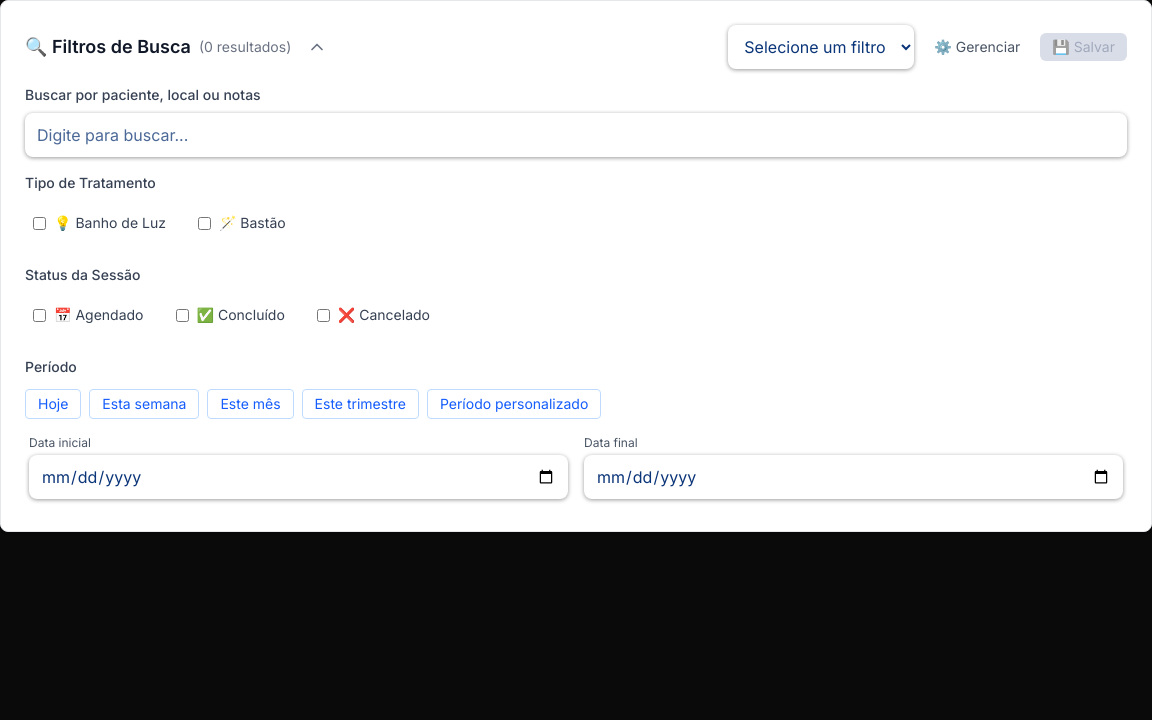
Scenario: FilterBar Component › Manage Presets › should open manage modal when manage button is clicked
The image size is (1152, 720).
Click the button "⚙️ Gerenciar". click: [977, 47]
box: [922,33,1032,61]
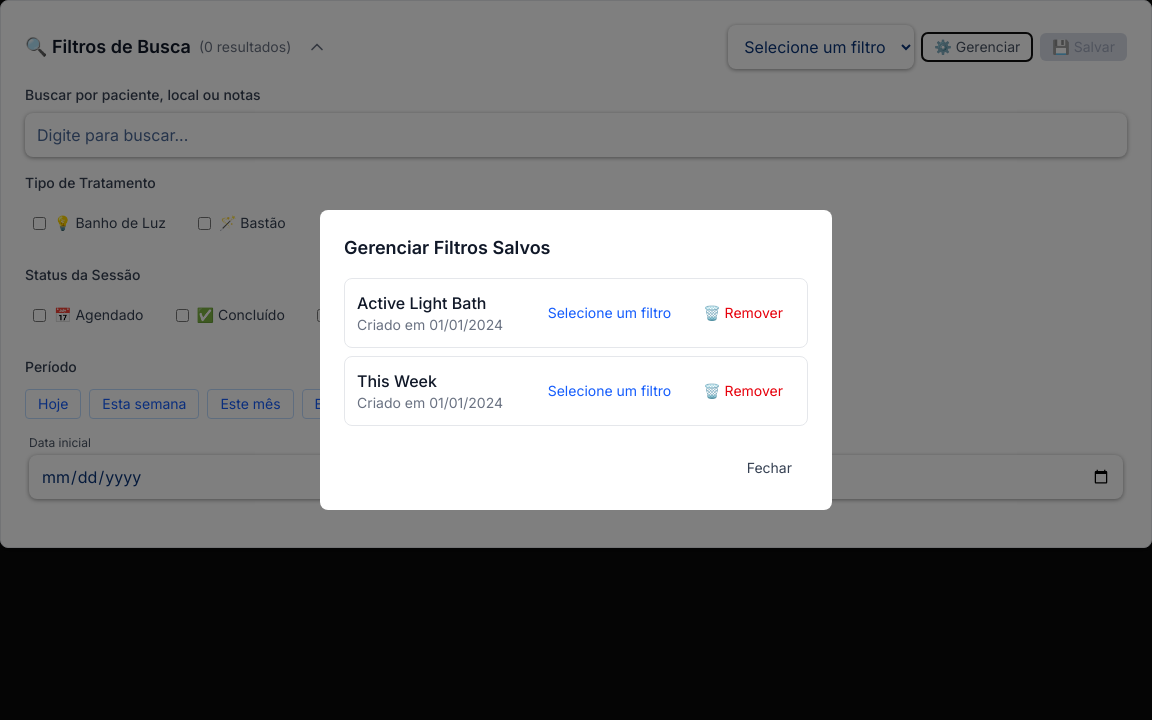
Check: the heading "Gerenciar Filtros Salvos" is shown, box [344,237,550,258]
